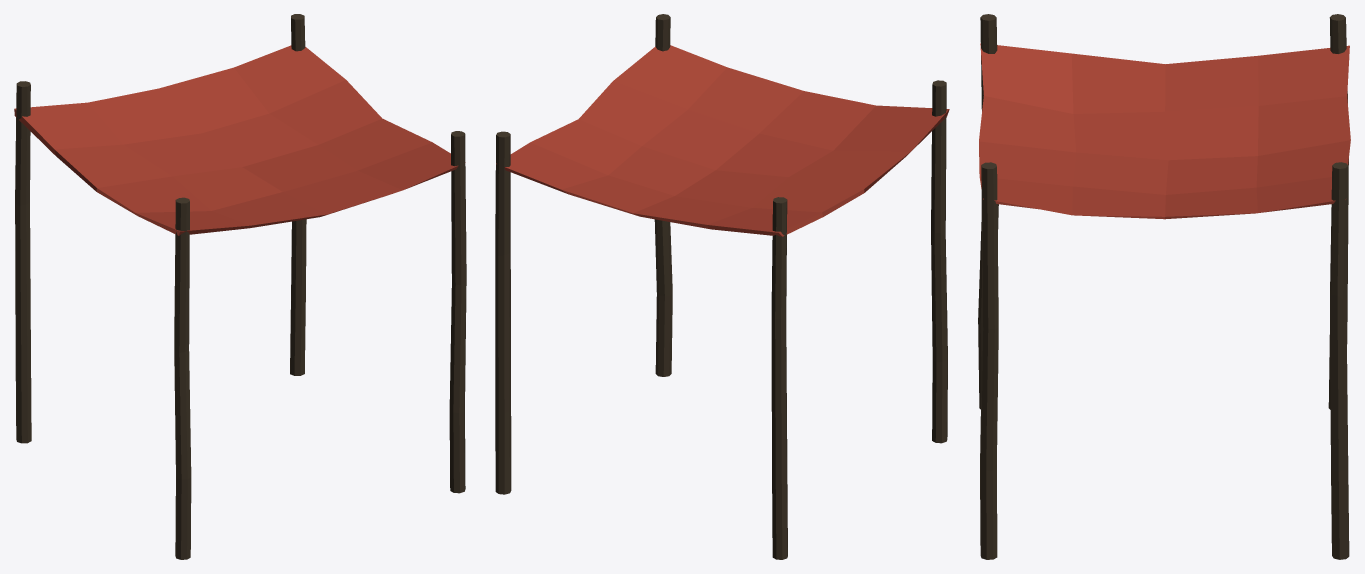
Rendered from roman_canopy_standing_straight.fbx.
3 views of the same model, side by side, from view 1: azimuth 30°, elevation 25°; view 2: azimuth 150°, elevation 25°; view 3: azimuth 270°, elevation 25° (orthographic). The views are drawn at different scales.
Visible parts, largest first — view 1: Cylinder.030, Cylinder.029; view 2: Cylinder.030, Cylinder.029; view 3: Cylinder.030, Cylinder.029.
Part boxes in pixels (box(x1,y1,x2,y2)): Cylinder.030: box(14, 45, 465, 235); Cylinder.029: box(15, 14, 466, 559); Cylinder.030: box(496, 45, 949, 236); Cylinder.029: box(495, 14, 947, 559); Cylinder.030: box(979, 43, 1350, 219); Cylinder.029: box(978, 14, 1349, 559).
Size of the model in its own units: 2.85 by 3.27 by 2.82.
